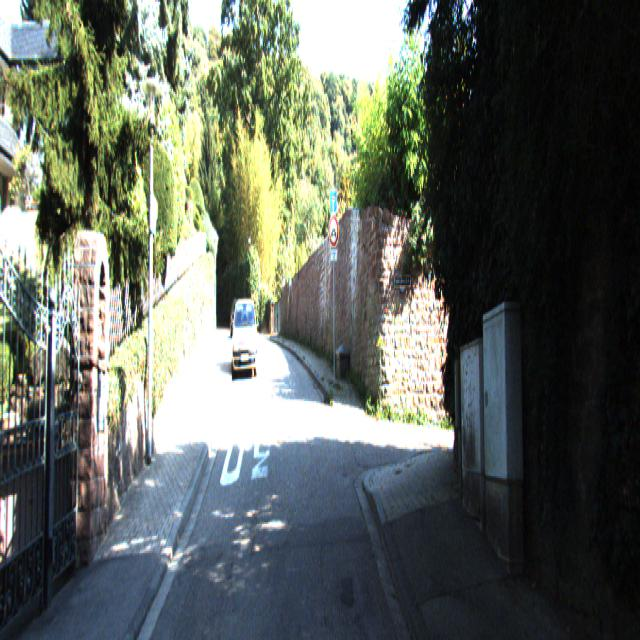Car: (232, 293, 258, 378), (230, 298, 250, 346)
